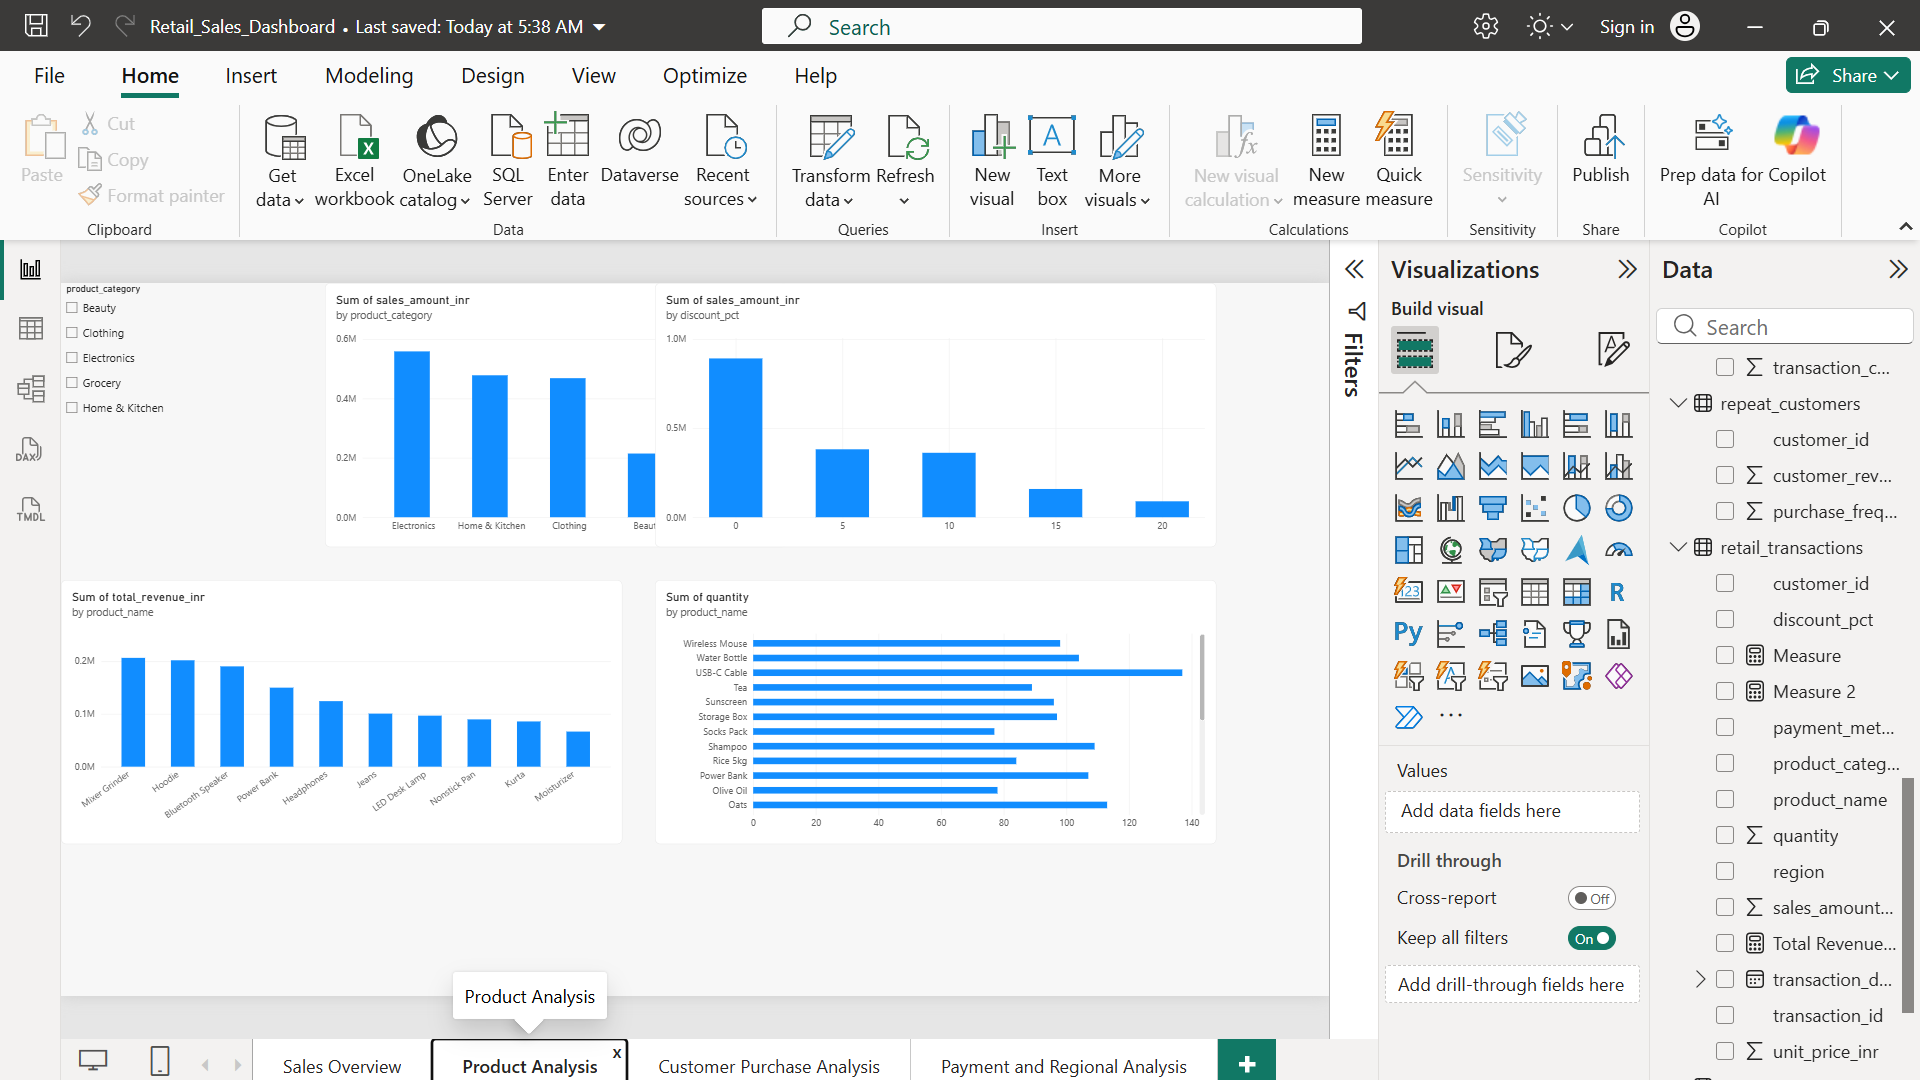

Layout of this report page (visuals, bound fields, positions):
{"tool":"powerbi","page":{"name":"Product Analysis","canvas":[1920,1080],"ordinal":1},"visuals":[{"type":"clusteredColumnChart","fields":{"Category":["retail_transactions.product_name"],"Y":["Sum(retail_transactions.quantity)"]},"box":[940.8,502.8,979.3,577.9],"z":0},{"type":"hundredPercentStackedColumnChart","fields":{"Category":["retail_transactions.product_category"],"Y":["Sum(retail_transactions.sales_amount_inr)"]},"box":[0,502.8,940.8,577.9],"z":1000},{"type":"slicer","fields":{"Values":["retail_transactions.product_category"]},"box":[1528.8,517,237.2,251.4],"z":2000},{"type":"pieChart","fields":{"Category":["top_products_by_revenue.product_name"],"Y":["Sum(top_products_by_revenue.total_revenue_inr)"]},"box":[0,0,960.8,502],"z":3000},{"type":"clusteredColumnChart","fields":{"Category":["discount_analysis.discount_pct"],"Y":["Sum(retail_transactions.sales_amount_inr)"]},"box":[940.8,0,978.9,502],"z":4000}]}

Visuals, with their boxes on the page's 1920x1080 design canvas (x1, y1, x2, y2). These are canvas units, not pixel positions in the 1920x1080 screenshot, which may show the page scaled, cropped or inside an application window:
clusteredColumnChart - retail_transactions.product_name x Sum(retail_transactions.quantity): detection(941, 503, 1920, 1081)
hundredPercentStackedColumnChart - retail_transactions.product_category x Sum(retail_transactions.sales_amount_inr): detection(0, 503, 941, 1081)
slicer - retail_transactions.product_category: detection(1529, 517, 1766, 768)
pieChart - top_products_by_revenue.product_name x Sum(top_products_by_revenue.total_revenue_inr): detection(0, 0, 961, 502)
clusteredColumnChart - discount_analysis.discount_pct x Sum(retail_transactions.sales_amount_inr): detection(941, 0, 1920, 502)
